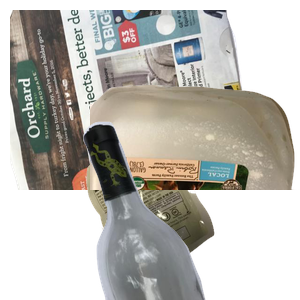glass: (81, 120, 300, 300)
paper: (10, 10, 250, 190)
plastic: (90, 82, 300, 262)
trash: (84, 126, 291, 300)
